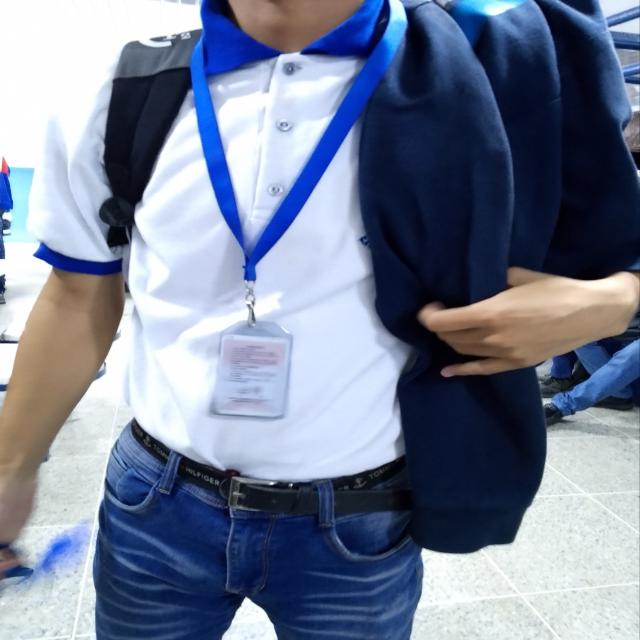carnet: (216, 336, 289, 417)
uniforme_superior: (25, 1, 410, 483)
